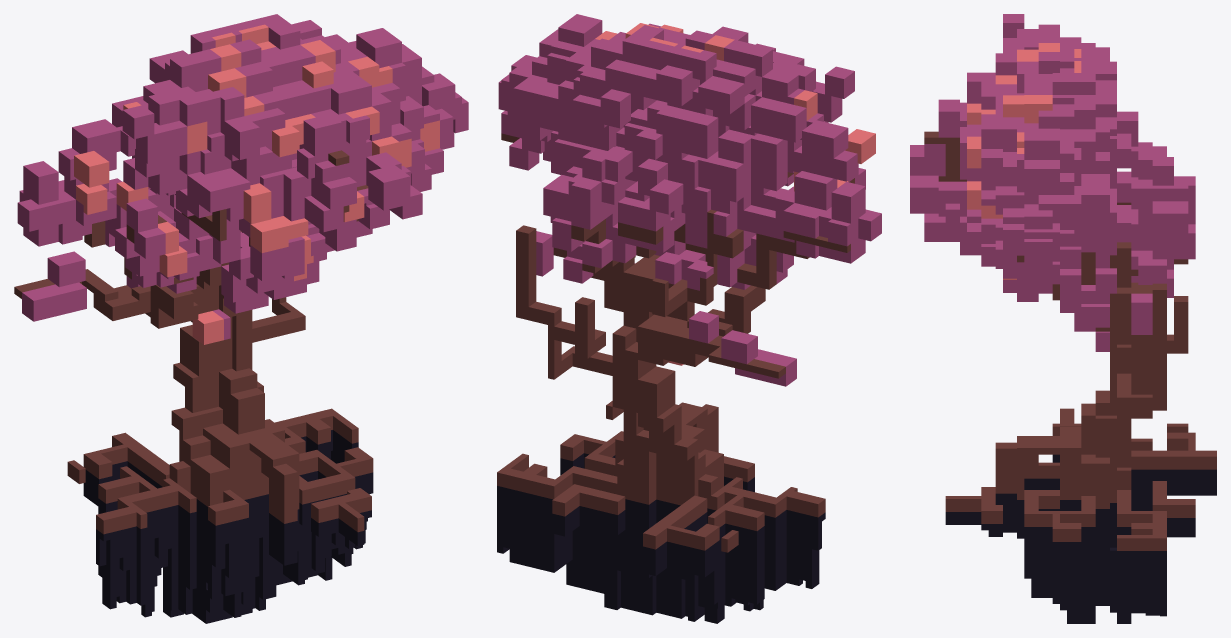
The model's file is cherryblossom.obj.
3 views of the same model, side by side, from view 1: azimuth 30°, elevation 25°; view 2: azimuth 150°, elevation 25°; view 3: azimuth 270°, elevation 25° (orthographic). The views are drawn at different scales.
Size of the model in its own units: 6.2 by 8.3 by 4.3.
Materials: 1 (1 with a texture image).
